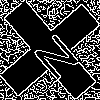N: (25, 25, 82, 83)
